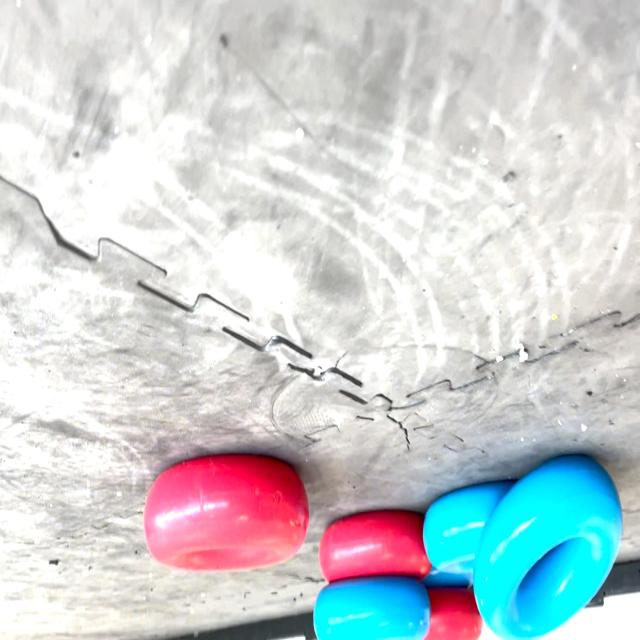Blue-Ring: (474, 456, 622, 638), (422, 480, 514, 576), (314, 576, 430, 639), (424, 569, 470, 588)
Red-Ring: (144, 456, 309, 571), (319, 511, 431, 582), (425, 587, 482, 639)
